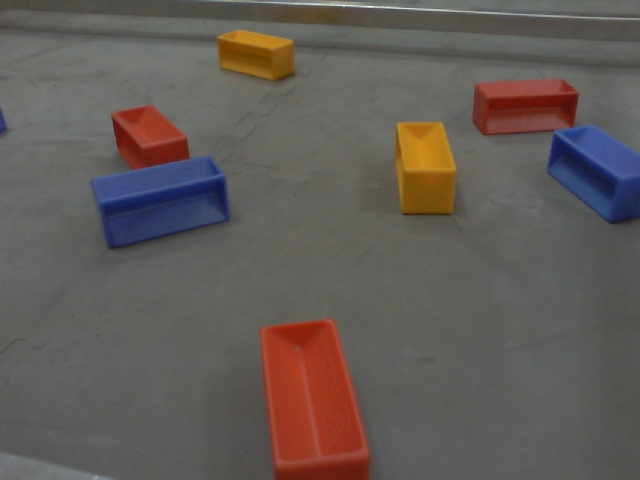BlueSample: (89, 153, 232, 249), (546, 122, 640, 232)
RedSample: (256, 315, 378, 480), (467, 73, 581, 137), (108, 101, 191, 171)
YellowSample: (393, 117, 460, 220), (214, 26, 298, 81)
